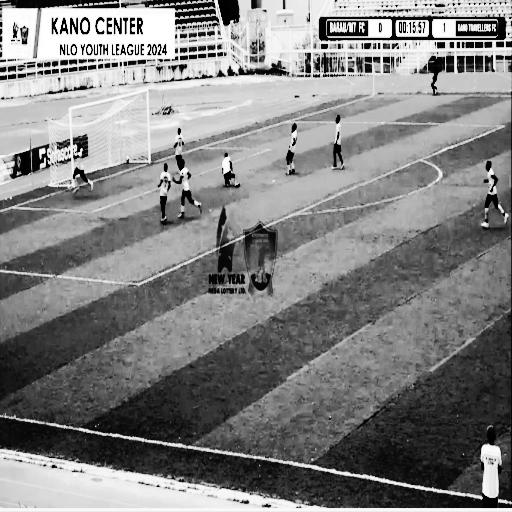ball: (123, 153, 131, 167)
distract: (475, 420, 512, 511)
keeper2: (218, 148, 245, 192)
referee: (430, 52, 446, 101)
team1: (476, 160, 511, 236), (176, 156, 208, 229), (67, 138, 99, 193), (284, 120, 303, 184)
team2: (327, 113, 353, 177), (155, 158, 174, 228), (171, 124, 187, 166)
